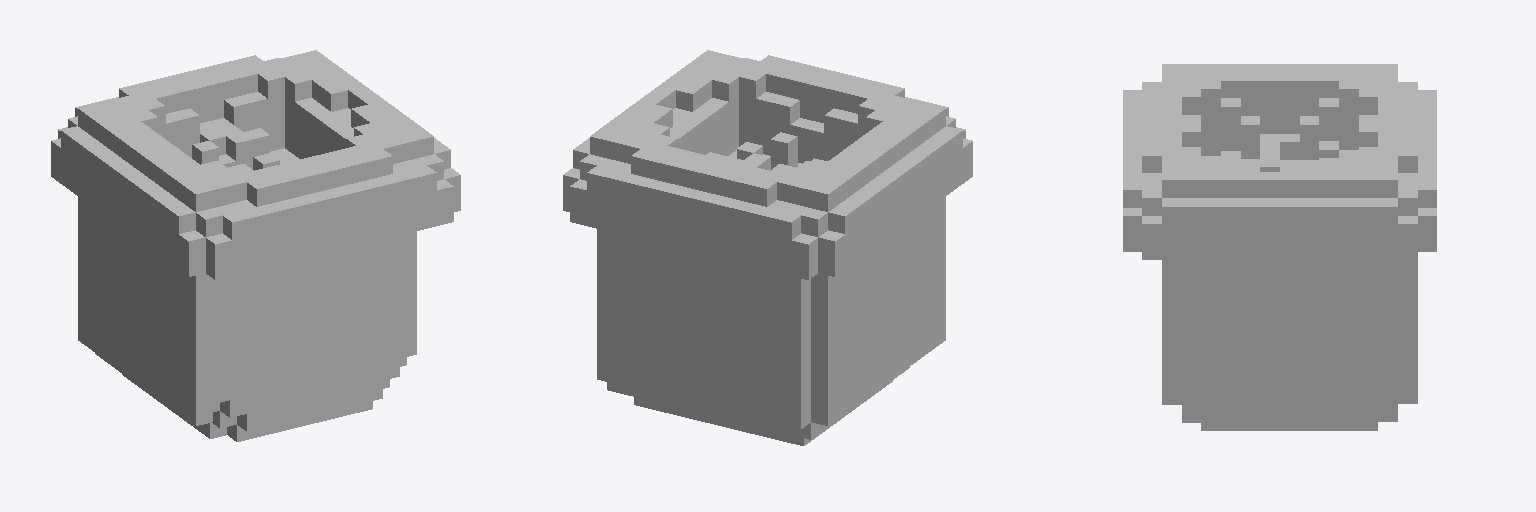
The model's file is Pot.obj.
3 views of the same model, side by side, from view 1: azimuth 30°, elevation 25°; view 2: azimuth 150°, elevation 25°; view 3: azimuth 270°, elevation 25° (orthographic).
Parts seen in each view (by area): view 1: object 1; view 2: object 1; view 3: object 1.
Boxes of the visible parts, <box> form: object 1: <box>51,50,460,441</box>; object 1: <box>563,50,972,445</box>; object 1: <box>1123,64,1436,430</box>.
Bounding box in the file's own units: 1.6 × 1.5 × 1.6.